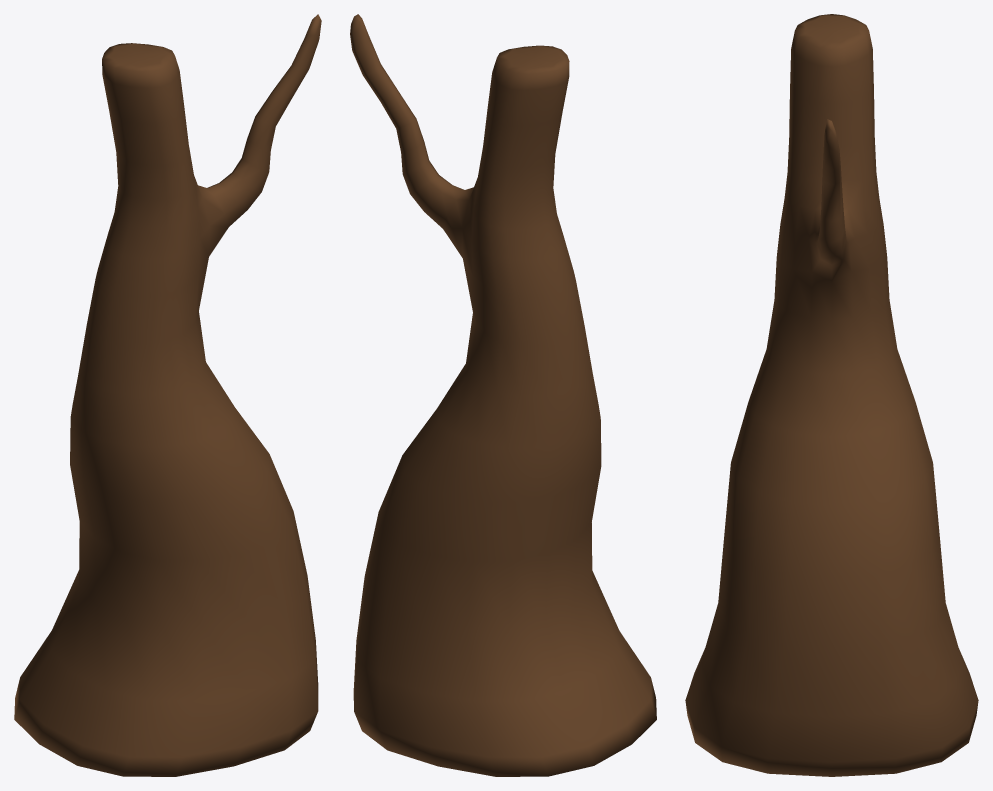
The model's file is tronco.fbx.
3 views of the same model, side by side, from view 1: azimuth 30°, elevation 25°; view 2: azimuth 150°, elevation 25°; view 3: azimuth 270°, elevation 25° (orthographic).
Visible parts, largest first — view 1: tronco; view 2: tronco; view 3: tronco.
Boxes of the visible parts, <box> form: tronco: <box>14,14,321,776</box>; tronco: <box>350,14,656,776</box>; tronco: <box>685,14,978,776</box>.
Bounding box in the file's own units: 137 × 309 × 121.
